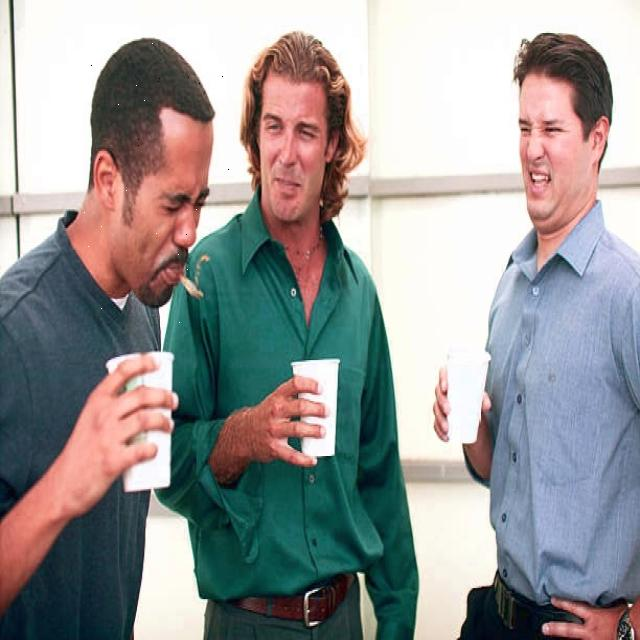Spitting: (78, 40, 238, 354)
